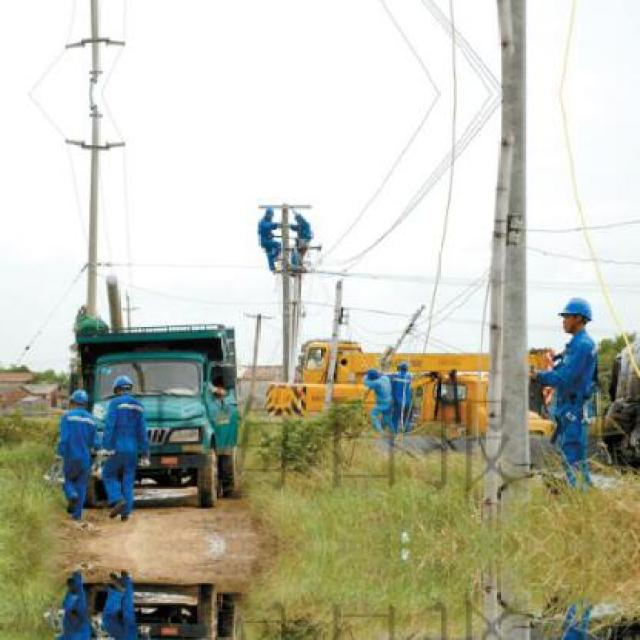helmet: (555, 293, 593, 335), (66, 384, 91, 412), (111, 373, 132, 397), (259, 202, 276, 219), (394, 358, 409, 375)
